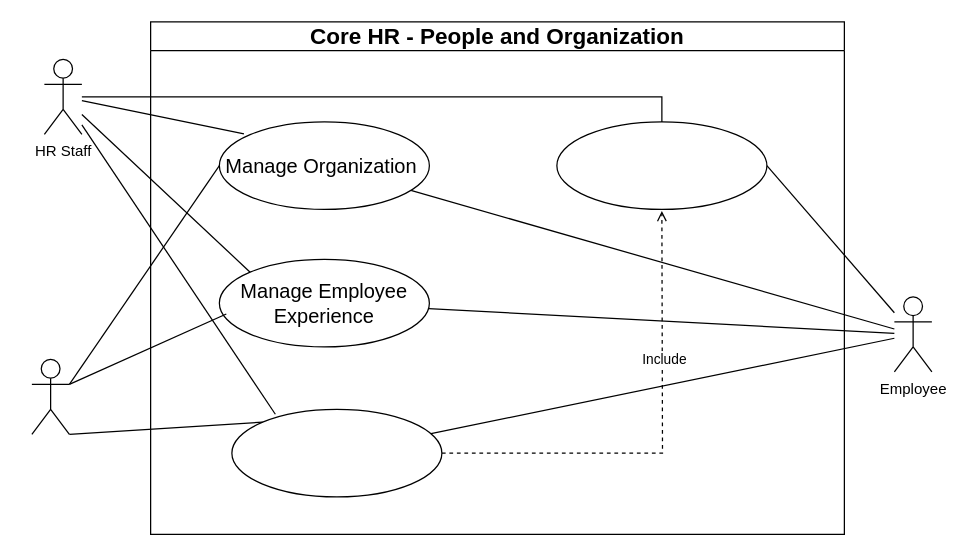
This 968x556 diagram has some shape labels left out. Here are the shapes that lost their labels. From the top down, the centre of each, then its label:
At point 661,165: "Manage Employee Documents".
At point 50,396: "Manager".
At point 336,452: "Manage Employee Information".
